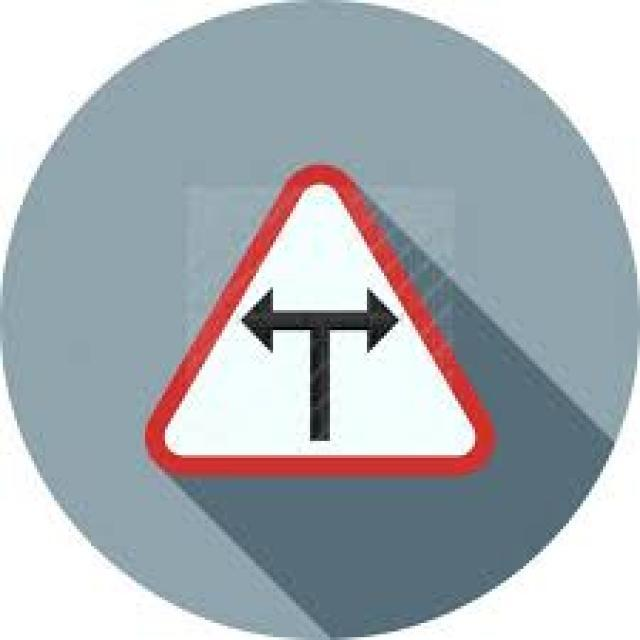t intersection: (145, 162, 483, 474)
